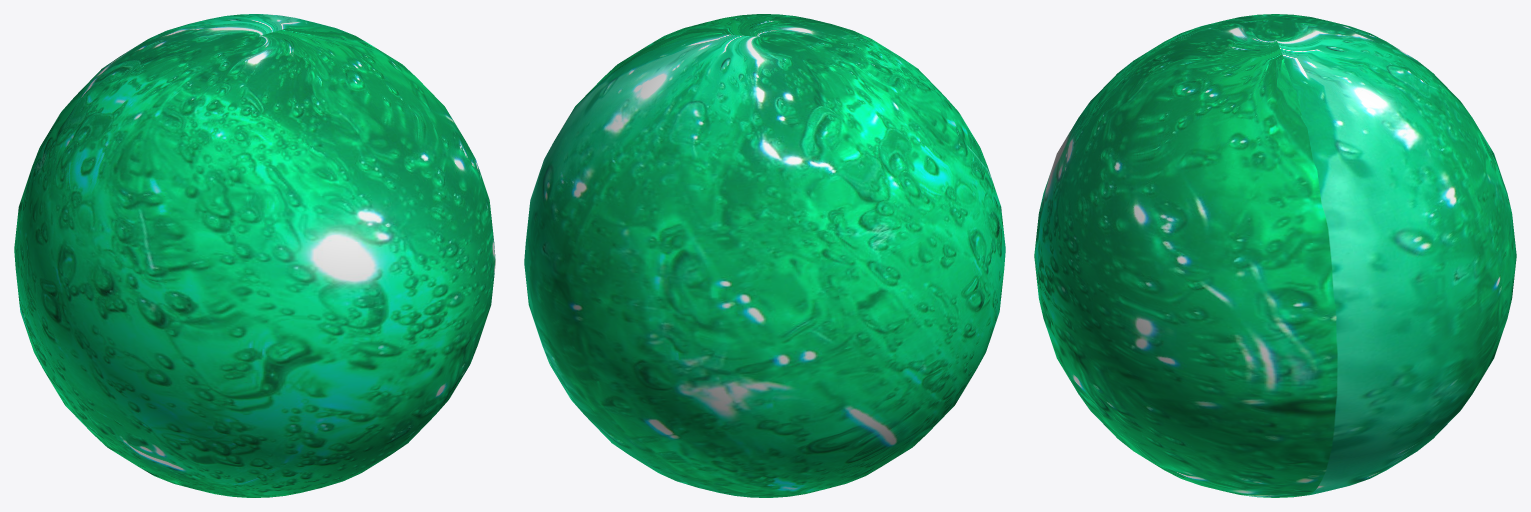
File: goo.obj
3 views of the same model, side by side, from view 1: azimuth 30°, elevation 25°; view 2: azimuth 150°, elevation 25°; view 3: azimuth 270°, elevation 25° (orthographic).
Visible parts, largest first — view 1: Sphere_Sphere.001; view 2: Sphere_Sphere.001; view 3: Sphere_Sphere.001.
Boxes of the visible parts, x1=… form: Sphere_Sphere.001: x1=14, y1=14, x2=495, y2=497; Sphere_Sphere.001: x1=524, y1=14, x2=1005, y2=497; Sphere_Sphere.001: x1=1034, y1=14, x2=1516, y2=497.
Size of the model in its own units: 1.98 by 1.98 by 1.98.
